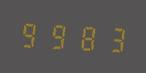eight: (72, 20, 98, 54)
nine: (18, 17, 44, 51), (45, 18, 71, 52)
three: (99, 21, 125, 55)
